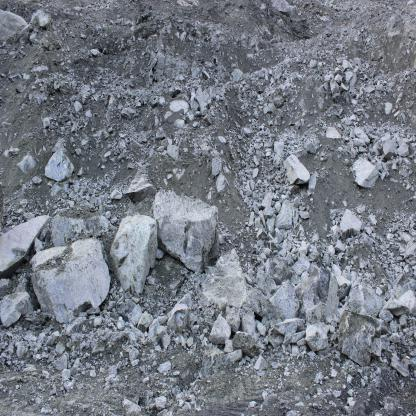stone: (31, 238, 110, 324), (151, 190, 219, 270), (112, 214, 157, 294), (338, 307, 390, 366), (0, 215, 50, 276), (199, 248, 249, 307), (296, 267, 332, 322), (269, 280, 300, 320), (348, 285, 385, 318), (0, 292, 32, 328), (166, 293, 193, 332), (127, 167, 156, 203), (243, 287, 275, 318), (44, 151, 74, 182), (265, 254, 294, 286), (273, 318, 305, 346), (283, 155, 311, 185), (322, 273, 339, 321), (353, 156, 379, 187), (231, 330, 260, 357), (340, 209, 362, 242), (202, 345, 226, 375), (305, 321, 328, 352), (209, 314, 231, 344), (256, 268, 276, 297), (381, 297, 409, 316), (274, 201, 293, 229), (370, 334, 390, 357), (226, 306, 241, 333), (241, 310, 256, 337), (391, 358, 412, 377), (336, 275, 352, 299), (117, 299, 137, 318), (137, 310, 153, 331), (128, 303, 143, 325), (195, 90, 211, 109), (353, 127, 370, 144), (291, 258, 310, 272), (383, 139, 397, 158), (147, 318, 160, 337), (51, 354, 67, 369), (289, 330, 306, 344), (225, 349, 243, 362), (325, 312, 340, 327), (254, 355, 269, 370), (155, 326, 168, 343), (326, 126, 341, 140), (379, 309, 394, 323), (211, 158, 222, 177), (46, 331, 59, 347), (271, 66, 282, 84), (167, 145, 179, 161), (271, 227, 283, 243), (304, 140, 317, 154), (256, 319, 266, 337), (266, 214, 276, 232), (274, 139, 284, 157), (261, 193, 273, 208), (128, 347, 139, 363), (155, 396, 167, 410), (397, 143, 409, 157), (157, 361, 172, 372), (160, 334, 171, 349), (331, 225, 340, 243), (330, 78, 339, 95), (178, 332, 187, 349), (16, 346, 26, 361), (169, 85, 181, 97), (289, 273, 301, 285), (334, 240, 346, 252), (256, 228, 267, 241), (34, 238, 44, 252), (86, 306, 101, 315), (259, 211, 266, 230), (263, 207, 274, 219), (287, 185, 300, 195), (261, 247, 274, 257), (46, 349, 55, 363), (368, 212, 377, 226), (345, 70, 354, 84), (349, 73, 358, 87), (218, 299, 228, 311), (353, 138, 366, 147), (367, 133, 380, 142), (117, 316, 125, 330), (193, 283, 201, 297), (98, 199, 105, 215), (121, 108, 131, 119), (61, 368, 71, 379), (111, 189, 122, 199), (272, 154, 282, 165), (308, 252, 319, 262), (23, 213, 35, 222), (224, 340, 233, 352), (342, 59, 351, 71), (342, 269, 351, 281), (293, 196, 302, 208), (247, 211, 254, 226), (399, 314, 407, 327), (286, 253, 294, 266), (375, 140, 383, 153), (390, 320, 398, 333), (296, 337, 306, 347), (274, 336, 284, 346), (190, 100, 199, 111), (74, 101, 83, 112), (314, 373, 323, 384), (389, 333, 400, 342), (244, 273, 252, 285), (203, 115, 212, 125), (358, 259, 367, 269), (182, 401, 192, 410), (88, 194, 97, 204), (107, 365, 116, 375), (219, 233, 228, 243), (105, 374, 116, 382), (43, 117, 51, 128), (299, 211, 310, 219), (32, 176, 43, 184), (38, 332, 46, 343), (332, 389, 341, 398), (244, 127, 253, 136), (256, 239, 265, 248), (256, 150, 265, 159), (371, 146, 380, 155), (339, 82, 347, 92), (53, 80, 61, 90), (263, 105, 271, 115), (157, 249, 165, 259), (278, 248, 286, 258), (202, 70, 210, 80), (252, 247, 262, 255), (332, 93, 340, 103), (71, 365, 79, 375), (292, 345, 300, 355), (94, 317, 102, 327), (323, 253, 329, 266), (190, 88, 196, 101), (254, 217, 261, 228), (253, 155, 260, 166), (64, 381, 73, 389), (90, 49, 99, 57), (191, 324, 199, 333), (334, 74, 342, 83), (19, 199, 27, 208), (364, 226, 372, 235), (366, 85, 375, 93), (358, 146, 368, 153), (81, 95, 88, 105), (328, 245, 335, 255), (380, 170, 387, 180), (27, 335, 37, 342), (281, 239, 288, 249), (375, 162, 382, 172), (187, 336, 193, 347), (252, 168, 258, 179), (275, 202, 281, 213), (187, 393, 195, 401), (334, 353, 342, 361), (150, 100, 158, 108), (34, 342, 42, 350), (309, 60, 317, 68), (131, 359, 140, 366), (111, 377, 120, 384), (264, 141, 273, 148), (147, 276, 154, 285), (131, 297, 140, 304), (158, 96, 165, 105), (256, 369, 265, 376), (110, 216, 117, 225), (260, 252, 267, 261), (271, 362, 281, 368), (8, 345, 14, 355), (101, 305, 111, 311), (125, 292, 133, 299), (174, 337, 181, 345), (344, 117, 351, 125), (118, 153, 125, 161), (375, 84, 383, 91), (325, 145, 333, 152), (197, 300, 205, 307), (345, 237, 352, 245), (245, 190, 253, 197), (249, 180, 254, 191), (351, 146, 357, 155), (253, 205, 259, 214), (156, 131, 162, 140), (21, 184, 27, 193), (201, 107, 207, 116), (376, 287, 382, 296), (307, 351, 316, 357), (350, 129, 356, 138), (256, 72, 265, 78), (116, 361, 122, 370), (323, 81, 328, 91), (28, 325, 38, 330), (109, 301, 116, 308), (62, 115, 69, 122), (142, 376, 149, 383), (29, 341, 36, 348), (244, 184, 251, 191), (347, 389, 354, 396), (89, 370, 96, 377), (248, 270, 255, 277), (80, 341, 86, 349), (71, 125, 77, 133), (171, 289, 177, 297), (394, 266, 402, 272), (78, 188, 84, 196), (360, 379, 366, 387), (395, 256, 403, 262), (155, 345, 161, 353), (253, 144, 261, 150), (161, 391, 169, 397), (286, 243, 292, 251), (357, 60, 362, 69), (332, 332, 337, 341), (179, 399, 184, 408), (376, 366, 381, 375), (98, 330, 104, 337), (392, 163, 398, 170), (20, 361, 27, 367), (300, 345, 306, 352), (367, 153, 373, 160), (68, 201, 75, 207), (135, 101, 141, 108), (35, 353, 41, 360), (150, 403, 156, 410), (104, 151, 111, 157), (324, 75, 331, 81), (350, 370, 357, 376), (157, 146, 164, 152), (265, 128, 271, 135), (71, 81, 78, 87), (139, 365, 145, 372), (409, 351, 416, 357), (291, 247, 297, 254), (377, 131, 383, 138), (287, 234, 294, 240), (105, 211, 111, 218), (75, 148, 81, 155), (408, 341, 415, 347), (225, 357, 230, 365), (270, 242, 275, 250), (199, 333, 204, 341), (370, 232, 376, 238), (252, 254, 258, 260), (62, 192, 68, 198), (184, 273, 190, 279), (363, 376, 369, 382), (142, 339, 148, 345), (351, 99, 357, 105), (89, 335, 95, 341), (341, 123, 347, 129), (350, 115, 356, 121), (288, 344, 292, 353), (183, 267, 189, 273), (265, 151, 271, 157), (252, 193, 258, 199), (72, 350, 76, 359), (377, 356, 383, 362), (371, 226, 376, 233), (330, 326, 335, 333), (220, 86, 225, 93), (162, 382, 167, 389), (267, 175, 274, 180), (173, 371, 180, 376), (279, 186, 284, 193), (33, 348, 38, 355), (261, 317, 266, 324), (172, 298, 179, 303), (283, 232, 288, 239), (401, 341, 408, 346), (352, 5, 359, 10), (273, 195, 280, 200), (307, 190, 312, 197), (262, 183, 269, 188), (65, 128, 70, 135), (3, 210, 8, 217), (264, 338, 269, 345), (299, 206, 306, 211), (400, 335, 405, 342), (201, 339, 205, 347), (144, 332, 149, 338), (17, 209, 23, 214), (365, 63, 370, 69), (290, 145, 295, 151), (245, 170, 251, 175), (256, 202, 261, 208), (275, 176, 280, 182), (245, 356, 251, 361), (404, 355, 410, 360), (363, 75, 368, 81), (8, 220, 14, 225), (18, 326, 23, 332), (335, 363, 341, 368), (411, 136, 416, 142), (244, 102, 249, 108), (168, 345, 173, 351), (326, 352, 332, 357), (247, 148, 252, 154), (411, 232, 416, 238), (100, 367, 105, 373), (275, 185, 281, 190), (260, 193, 266, 198), (344, 136, 350, 141), (242, 181, 247, 187), (330, 360, 335, 366), (203, 328, 208, 334), (243, 198, 248, 204), (118, 288, 124, 293), (257, 257, 261, 264), (61, 81, 65, 88), (282, 344, 286, 351), (85, 342, 89, 349), (249, 244, 253, 251), (86, 362, 90, 369), (351, 92, 356, 97), (258, 182, 263, 187), (6, 360, 11, 365), (210, 111, 215, 116), (260, 125, 265, 130), (257, 179, 262, 184), (338, 147, 343, 152), (52, 388, 57, 393), (247, 175, 252, 180), (171, 336, 176, 341), (238, 134, 242, 140), (160, 307, 166, 311), (239, 190, 243, 196), (262, 146, 268, 150), (387, 121, 391, 127), (169, 332, 173, 338), (61, 127, 65, 133), (274, 120, 278, 126), (120, 352, 124, 358), (303, 58, 307, 64), (248, 92, 252, 98), (216, 95, 220, 101), (37, 308, 41, 314), (345, 245, 349, 251), (241, 177, 247, 181), (82, 405, 86, 411), (403, 328, 407, 334), (359, 90, 363, 96), (150, 302, 154, 308), (242, 358, 245, 365), (136, 368, 140, 373), (322, 262, 326, 267), (51, 316, 55, 321), (401, 382, 405, 387), (145, 304, 149, 309), (407, 134, 411, 139), (343, 7, 347, 12), (383, 358, 387, 363), (377, 80, 381, 85), (245, 221, 249, 226), (15, 384, 19, 389), (45, 375, 49, 380), (256, 138, 260, 143), (282, 85, 286, 90), (282, 75, 287, 79), (348, 89, 353, 93), (390, 155, 394, 160), (289, 142, 294, 146), (67, 121, 71, 126), (204, 337, 208, 342), (49, 117, 53, 122), (399, 331, 404, 335), (319, 70, 323, 75), (184, 279, 188, 284), (70, 137, 74, 142), (367, 83, 371, 88), (319, 380, 323, 385), (268, 158, 273, 162), (71, 346, 75, 351), (324, 376, 329, 380), (239, 361, 243, 366), (228, 239, 232, 244), (260, 344, 264, 349), (213, 304, 217, 309), (200, 317, 203, 323), (211, 73, 214, 79), (306, 205, 309, 211), (292, 253, 295, 259), (153, 360, 156, 366), (211, 309, 214, 315), (398, 324, 401, 330), (236, 207, 240, 211), (246, 180, 250, 184), (352, 104, 356, 108), (280, 178, 284, 182), (259, 142, 263, 146), (368, 392, 372, 396), (285, 351, 289, 355), (242, 81, 246, 85), (281, 174, 285, 178), (49, 125, 53, 129), (320, 357, 323, 362), (284, 144, 287, 149), (338, 256, 343, 259), (172, 396, 175, 401), (260, 101, 263, 106), (349, 65, 352, 70), (160, 313, 165, 316), (71, 359, 74, 364), (277, 172, 280, 177), (284, 69, 287, 74), (244, 263, 247, 268), (269, 330, 272, 335), (240, 84, 243, 89), (248, 263, 251, 268), (237, 231, 241, 234), (170, 392, 172, 398), (58, 97, 62, 100), (94, 97, 97, 101), (247, 265, 249, 271), (328, 71, 332, 74), (241, 195, 244, 199), (318, 67, 321, 71), (323, 62, 326, 66), (5, 342, 8, 346), (359, 71, 363, 74), (255, 227, 258, 231), (296, 58, 299, 62), (290, 78, 292, 83), (284, 138, 287, 141), (85, 122, 88, 125), (266, 157, 269, 160), (269, 71, 272, 74), (262, 162, 264, 165), (169, 299, 172, 301)
